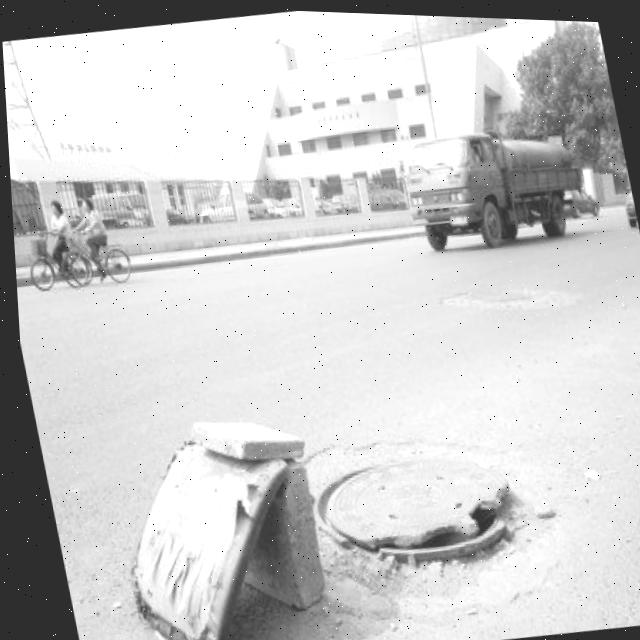manhole: (297, 428, 533, 584)
